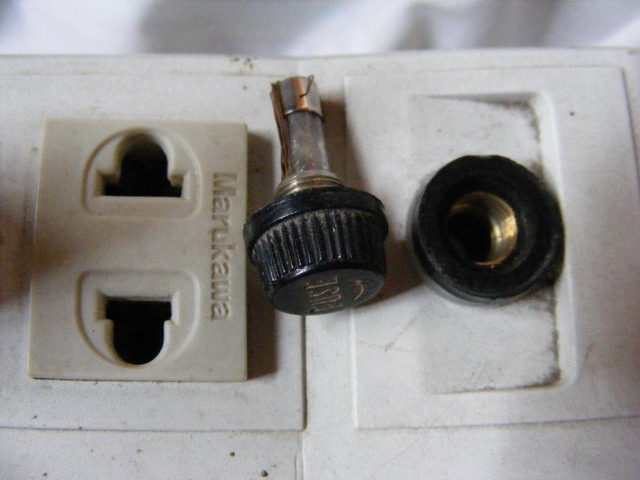Three_eye_plug: (1, 48, 640, 480)
